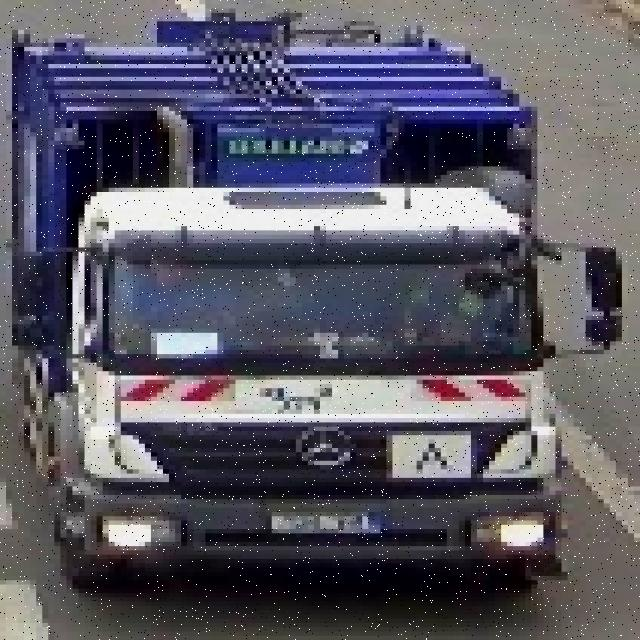truck: (0, 0, 616, 593)
